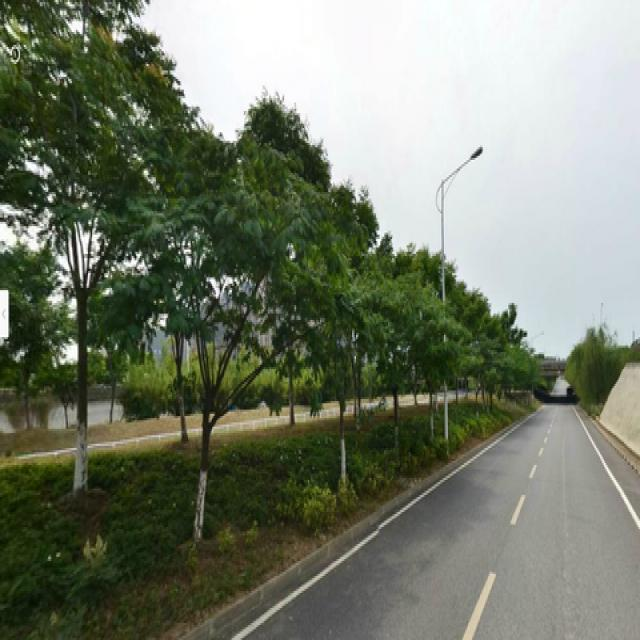albi: (139, 150, 293, 518), (308, 218, 387, 495)
